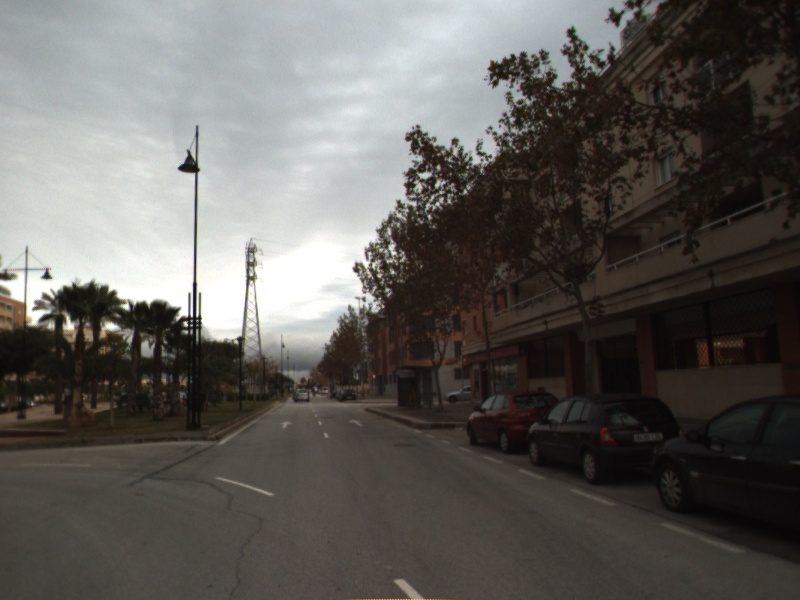STRAIGHT: (346, 417, 366, 428), (278, 419, 295, 430)
